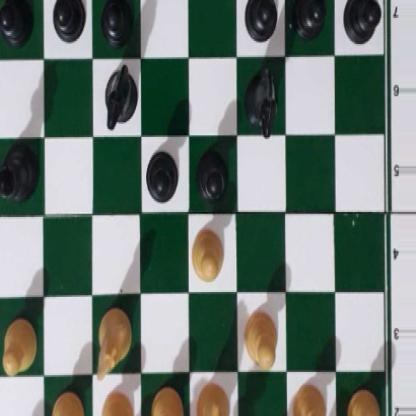black-bishop: (0, 144, 40, 202)
black-knight: (245, 62, 278, 134), (103, 62, 136, 124)
black-pawn: (195, 144, 228, 202), (146, 144, 179, 201), (343, 0, 379, 44), (101, 0, 132, 44), (0, 0, 32, 42), (52, 0, 83, 42), (293, 0, 325, 39), (245, 0, 277, 39)
white-knight: (94, 302, 130, 375), (195, 380, 232, 416)
white-pawn: (0, 315, 37, 372), (244, 307, 278, 369), (191, 223, 223, 281), (346, 385, 384, 416), (149, 385, 183, 416), (49, 388, 82, 416), (99, 390, 133, 416)
